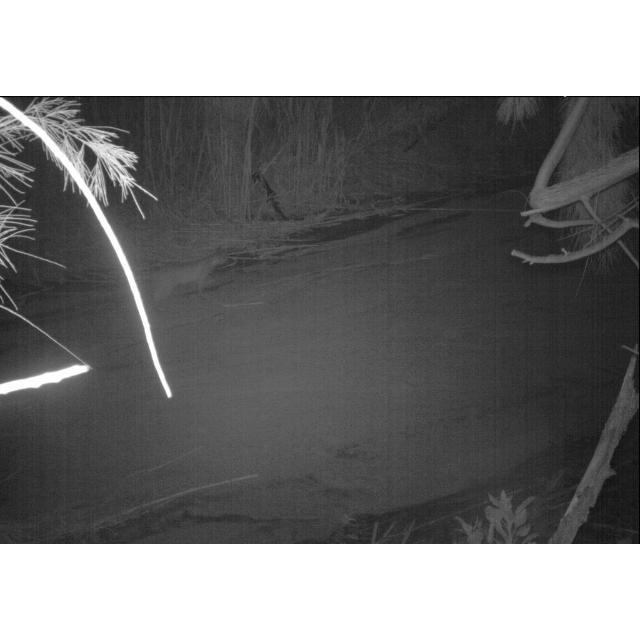animals: (146, 249, 232, 303)
